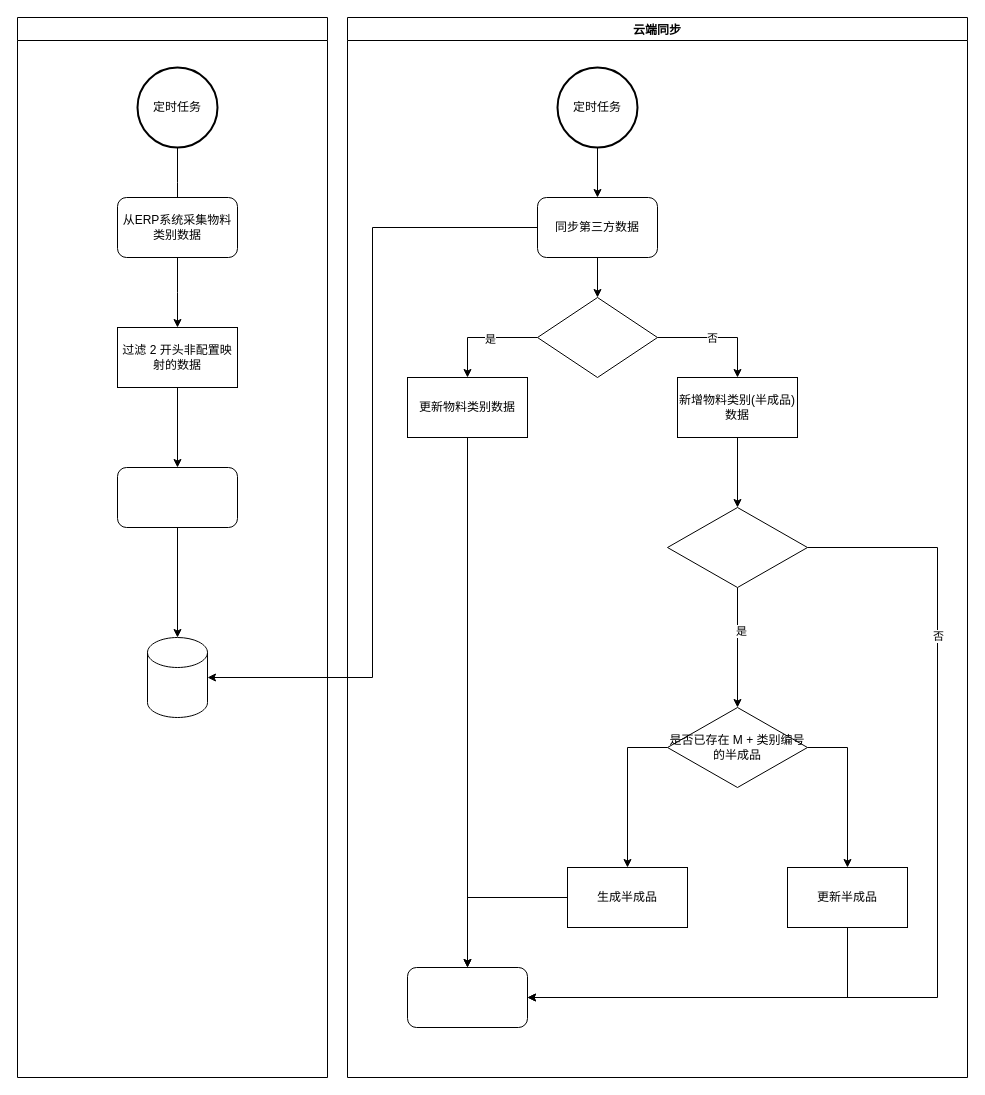
The diagram is 985 pixels wide and 1095 high, and some of its shapes have lost their labels. Each missing label, with the box of its shape:
云平台: (406, 966, 528, 1028)
推送到第三方数据库: (116, 466, 238, 528)
是否已存在物料类别编号数据: (536, 296, 658, 378)
本地采集: (16, 16, 328, 1078)
物料类别编号是否 3 开头: (666, 506, 808, 588)
